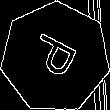P_SE: (25, 30, 85, 85)
